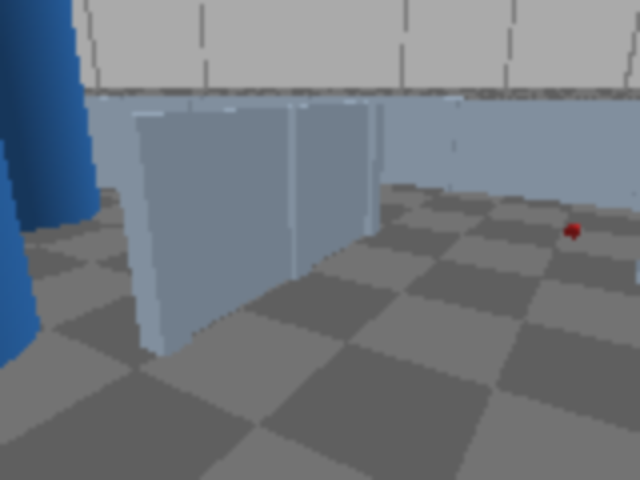person: (0, 0, 26, 420)
puck: (563, 222, 583, 241)
